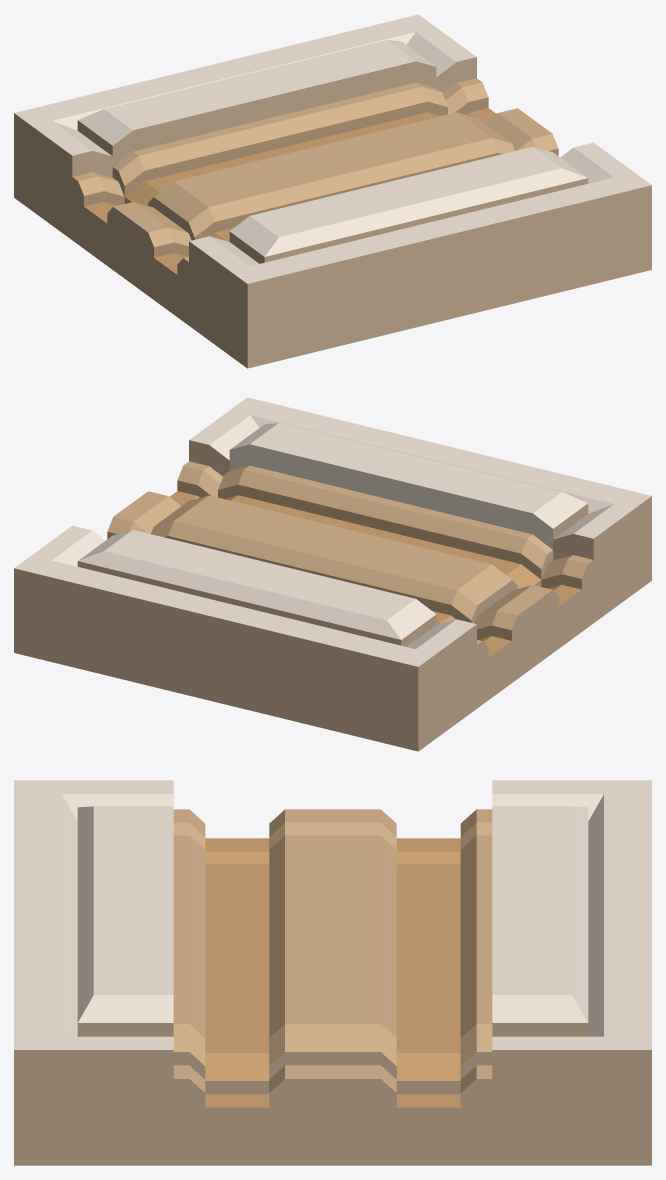
File: Puzzle_Track_Button_Straight.fbx
The picture shows the model from 3 angles, top to bottom: view 1: azimuth 30°, elevation 25°; view 2: azimuth 150°, elevation 25°; view 3: azimuth 270°, elevation 25°; orthographic projection. The views are drawn at different scales.
Parts seen in each view (by area): view 1: Sandstone_Trim.Sandstone_Trim.Sandstone_Trim.Sandstone_Trim., Sandstone_4.Sandstone_4.Sandstone_4.Sandstone_4.Sandstone_4. (×2), Sandstone_Floor.Sandstone_Floor.Sandstone_Floor, Sandstone_Floor.Sandstone_Floor.Sandstone_Floor.Sandstone_Fl, Sandstone_Trim.Sandstone_Trim.Sandstone_Trim.Sandstone_Trim, Sandstone_5.Sandstone_5.Sandstone_5.Sandstone_5.Sandstone_5 (×2); view 2: Sandstone_Trim.Sandstone_Trim.Sandstone_Trim.Sandstone_Trim., Sandstone_4.Sandstone_4.Sandstone_4.Sandstone_4.Sandstone_4. (×2), Sandstone_Floor.Sandstone_Floor.Sandstone_Floor, Sandstone_Floor.Sandstone_Floor.Sandstone_Floor.Sandstone_Fl, Sandstone_5.Sandstone_5.Sandstone_5.Sandstone_5.Sandstone_5 (×2), Sandstone_Trim.Sandstone_Trim.Sandstone_Trim.Sandstone_Trim; view 3: Sandstone_Trim.Sandstone_Trim.Sandstone_Trim.Sandstone_Trim., Sandstone_4.Sandstone_4.Sandstone_4.Sandstone_4.Sandstone_4. (×2), Sandstone_Floor.Sandstone_Floor.Sandstone_Floor.Sandstone_Fl, Sandstone_Floor.Sandstone_Floor.Sandstone_Floor, Sandstone_5.Sandstone_5.Sandstone_5.Sandstone_5.Sandstone_5 (×2), Sandstone_Trim.Sandstone_Trim.Sandstone_Trim.Sandstone_Trim.
Boxes of the visible parts, left/top/right/bottom form: Sandstone_Trim.Sandstone_Trim.Sandstone_Trim.Sandstone_Trim.: left=14, top=57, right=651, bottom=368; Sandstone_4.Sandstone_4.Sandstone_4.Sandstone_4.Sandstone_4. (×2): left=73, top=78, right=558, bottom=261; Sandstone_Floor.Sandstone_Floor.Sandstone_Floor: left=78, top=40, right=587, bottom=256; Sandstone_Floor.Sandstone_Floor.Sandstone_Floor.Sandstone_Fl: left=14, top=14, right=651, bottom=283; Sandstone_Trim.Sandstone_Trim.Sandstone_Trim.Sandstone_Trim: left=77, top=61, right=588, bottom=263; Sandstone_5.Sandstone_5.Sandstone_5.Sandstone_5.Sandstone_5 (×2): left=84, top=108, right=496, bottom=274; Sandstone_Trim.Sandstone_Trim.Sandstone_Trim.Sandstone_Trim.: left=14, top=440, right=651, bottom=751; Sandstone_4.Sandstone_4.Sandstone_4.Sandstone_4.Sandstone_4. (×2): left=107, top=461, right=592, bottom=644; Sandstone_Floor.Sandstone_Floor.Sandstone_Floor: left=78, top=423, right=587, bottom=639; Sandstone_Floor.Sandstone_Floor.Sandstone_Floor.Sandstone_Fl: left=14, top=397, right=651, bottom=666; Sandstone_5.Sandstone_5.Sandstone_5.Sandstone_5.Sandstone_5 (×2): left=169, top=491, right=581, bottom=657; Sandstone_Trim.Sandstone_Trim.Sandstone_Trim.Sandstone_Trim: left=77, top=503, right=588, bottom=646; Sandstone_Trim.Sandstone_Trim.Sandstone_Trim.Sandstone_Trim.: left=14, top=1050, right=651, bottom=1165; Sandstone_4.Sandstone_4.Sandstone_4.Sandstone_4.Sandstone_4. (×2): left=173, top=809, right=492, bottom=1092; Sandstone_Floor.Sandstone_Floor.Sandstone_Floor.Sandstone_Fl: left=14, top=780, right=651, bottom=1049; Sandstone_Floor.Sandstone_Floor.Sandstone_Floor: left=77, top=806, right=588, bottom=1022; Sandstone_5.Sandstone_5.Sandstone_5.Sandstone_5.Sandstone_5 (×2): left=205, top=838, right=460, bottom=1107; Sandstone_Trim.Sandstone_Trim.Sandstone_Trim.Sandstone_Trim: left=77, top=1023, right=588, bottom=1094.
Bounding box in the file's own units: 1 × 0.225 × 1.
